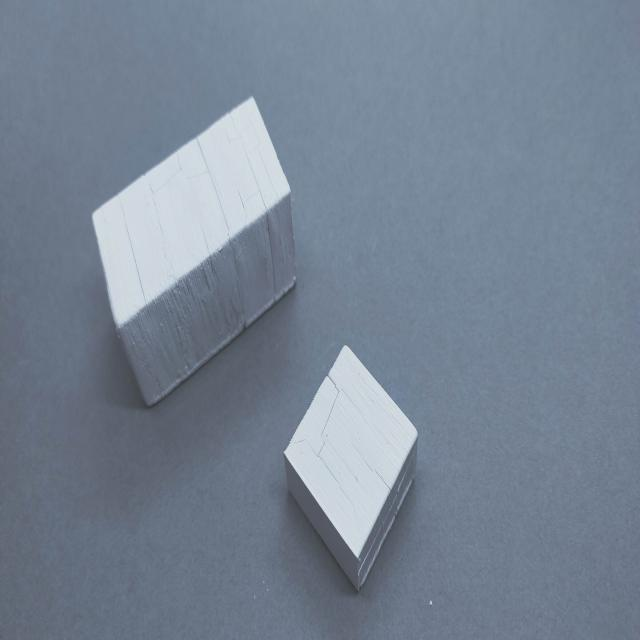Warping: (194, 135, 227, 245), (326, 369, 339, 410)
